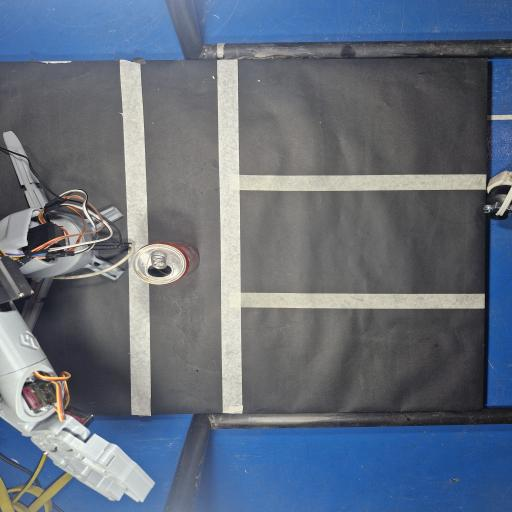lata: (132, 242, 199, 285)
